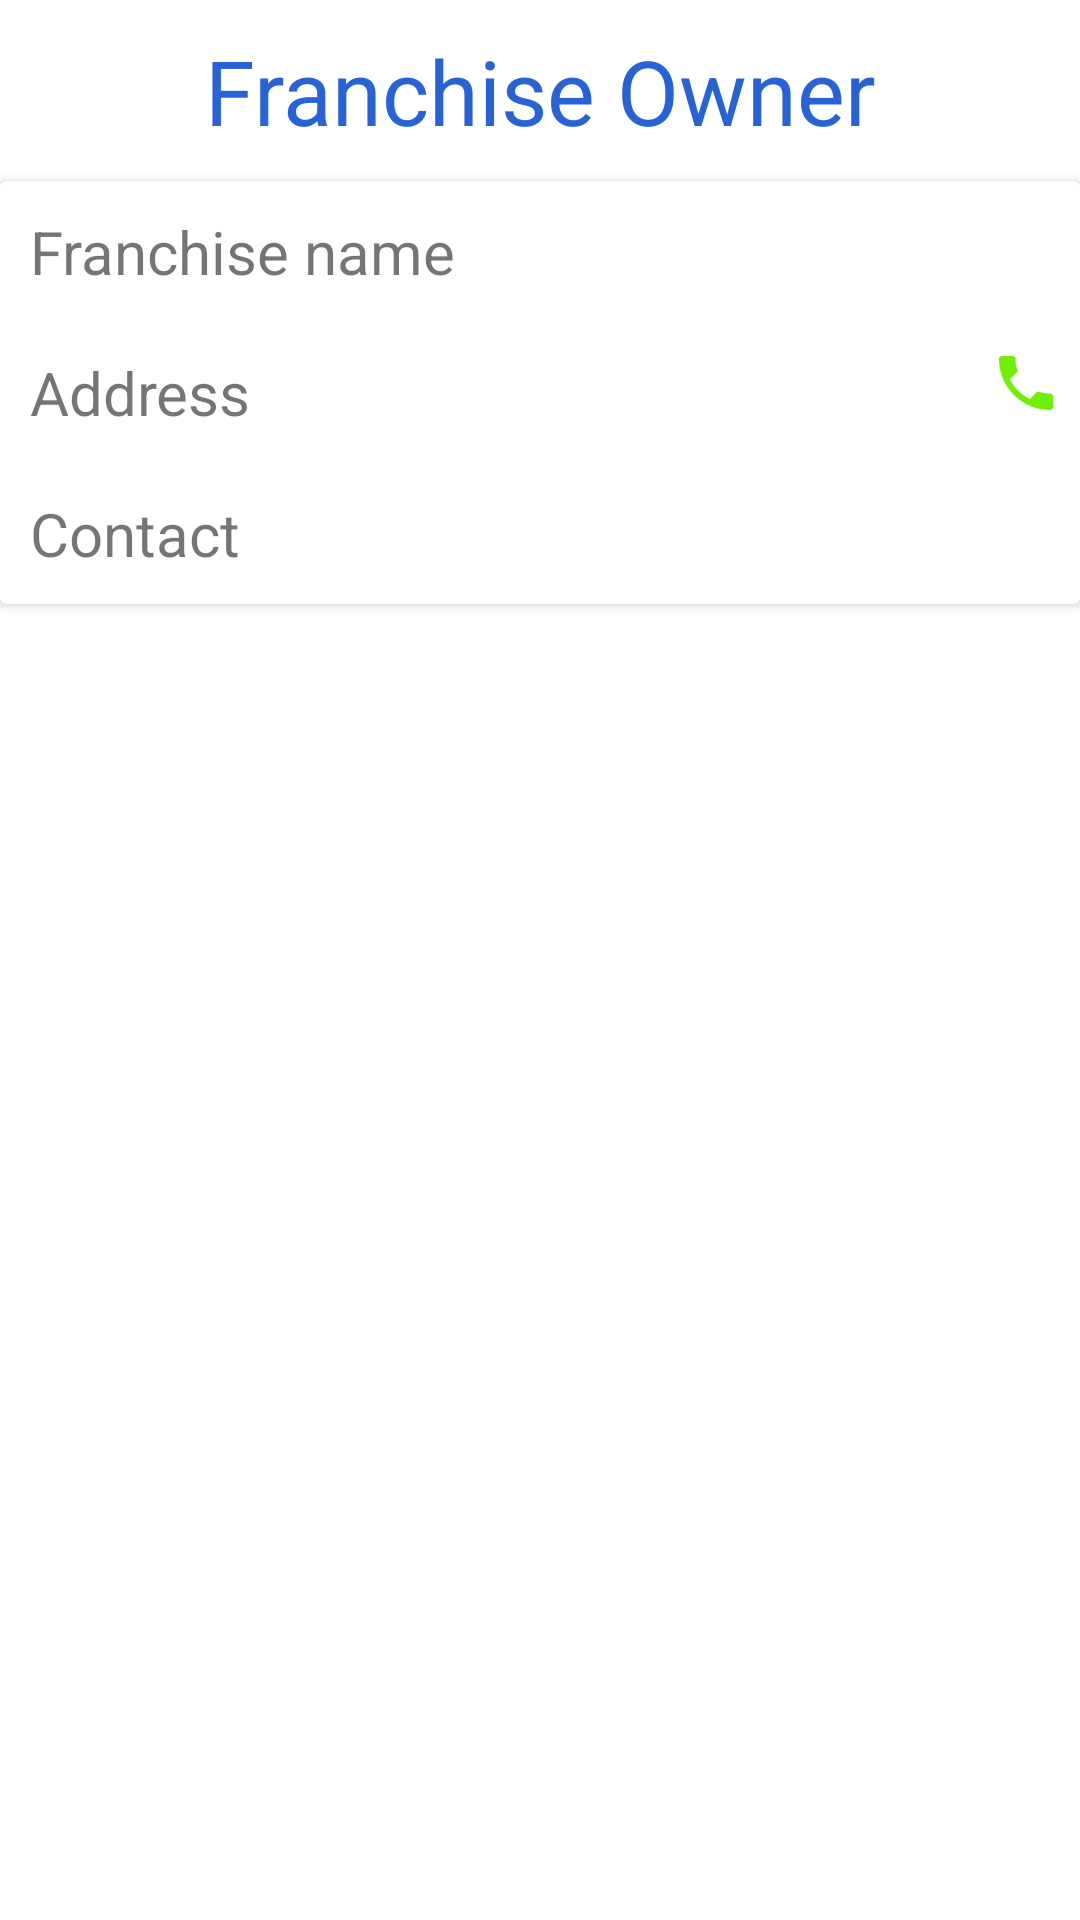

Where to tap for icons on this 1080 x 1920 app screen, as point (x, y):
phone: point (1026, 383)
